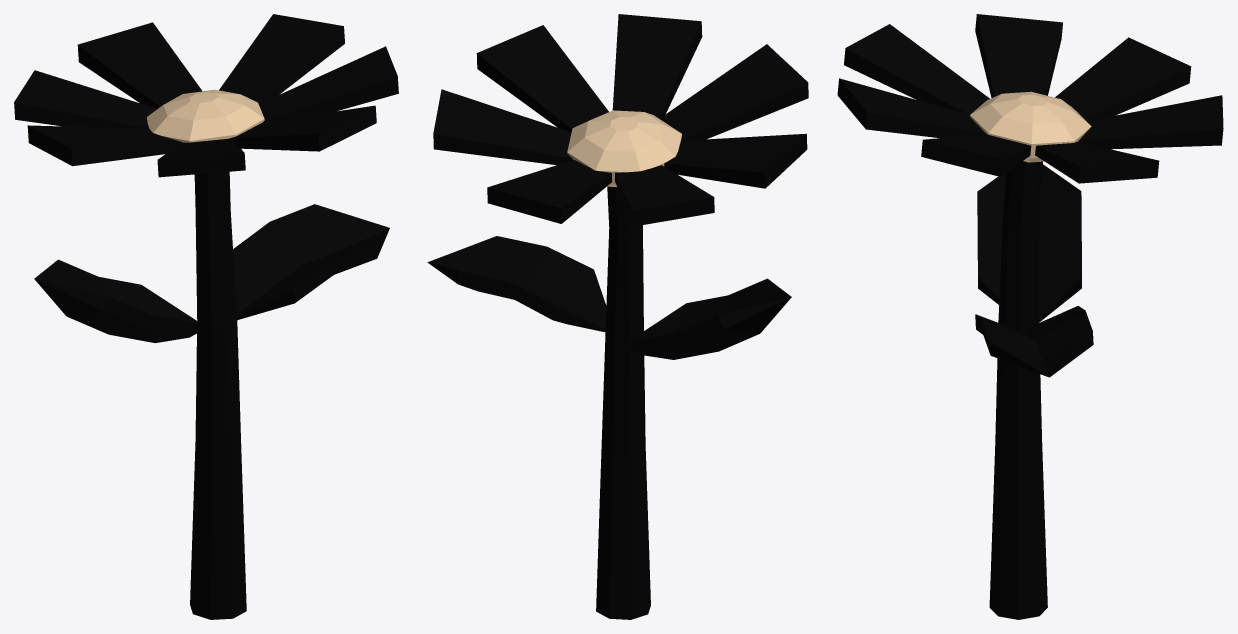
Rendered from Flower_2_Yellow.fbx.
3 renders of one model, left to right at view 1: azimuth 30°, elevation 25°; view 2: azimuth 150°, elevation 25°; view 3: azimuth 270°, elevation 25°, orthographic. The views are drawn at different scales.
Visible parts, largest first — view 1: Flower_2_Yellow; view 2: Flower_2_Yellow; view 3: Flower_2_Yellow.
Boxes of the visible parts, x1=… form: Flower_2_Yellow: x1=14, y1=14, x2=398, y2=619; Flower_2_Yellow: x1=427, y1=14, x2=808, y2=619; Flower_2_Yellow: x1=837, y1=14, x2=1223, y2=619.
Bounding box in the file's own units: 0.0945 × 0.1327 × 0.0868.
